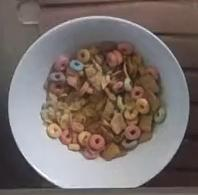cereal: (41, 42, 164, 159)
